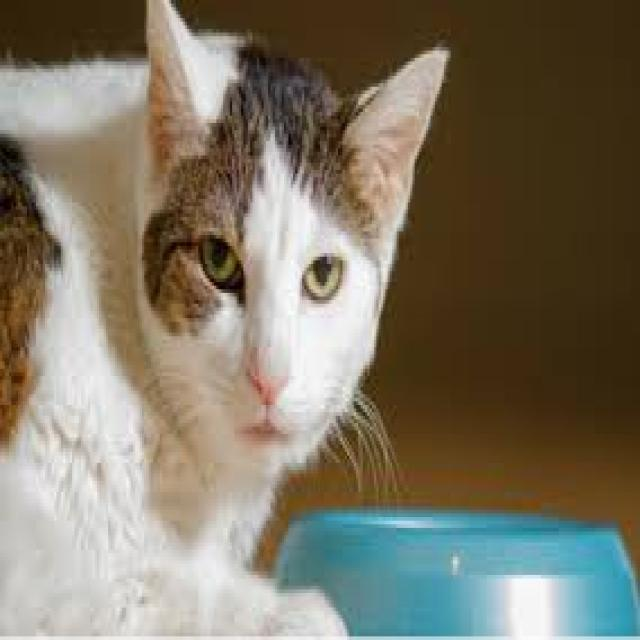cat: (102, 15, 426, 502), (116, 33, 387, 424)
